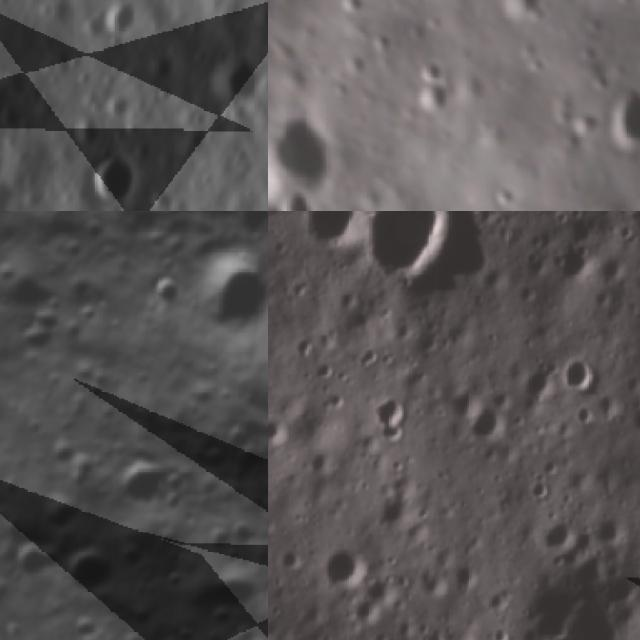crater: (160, 221, 268, 354), (349, 211, 481, 298), (169, 538, 268, 640), (525, 560, 640, 640), (98, 436, 188, 526), (0, 283, 82, 370), (268, 110, 336, 204), (200, 32, 268, 115), (0, 513, 67, 597), (50, 532, 124, 604), (81, 140, 155, 211), (207, 497, 268, 563), (315, 531, 377, 595), (296, 211, 374, 261), (26, 479, 85, 538), (59, 95, 115, 156), (368, 387, 420, 445), (600, 86, 640, 160), (134, 264, 186, 316), (559, 343, 607, 398), (96, 0, 152, 47), (462, 391, 508, 444), (513, 355, 556, 408), (405, 78, 456, 122), (410, 53, 457, 88), (272, 182, 321, 211), (568, 104, 605, 142), (485, 175, 521, 211), (493, 0, 544, 23), (251, 557, 268, 623), (75, 628, 153, 640), (335, 0, 371, 18), (552, 205, 574, 211)
